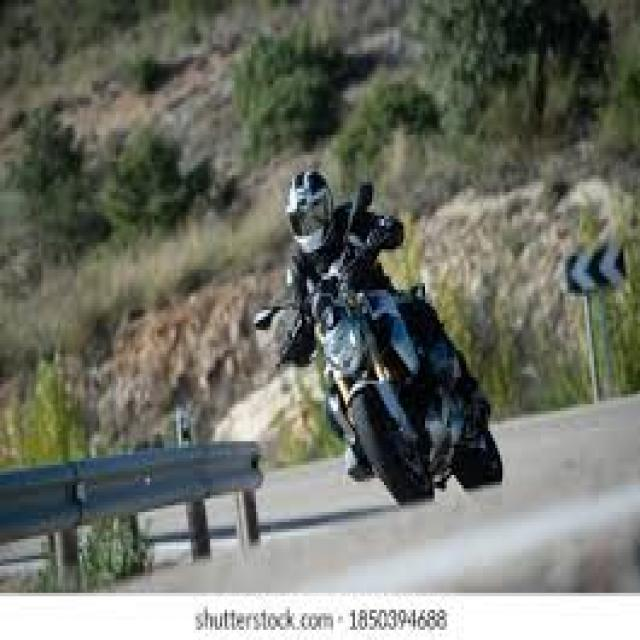Bike: (253, 212, 504, 510)
